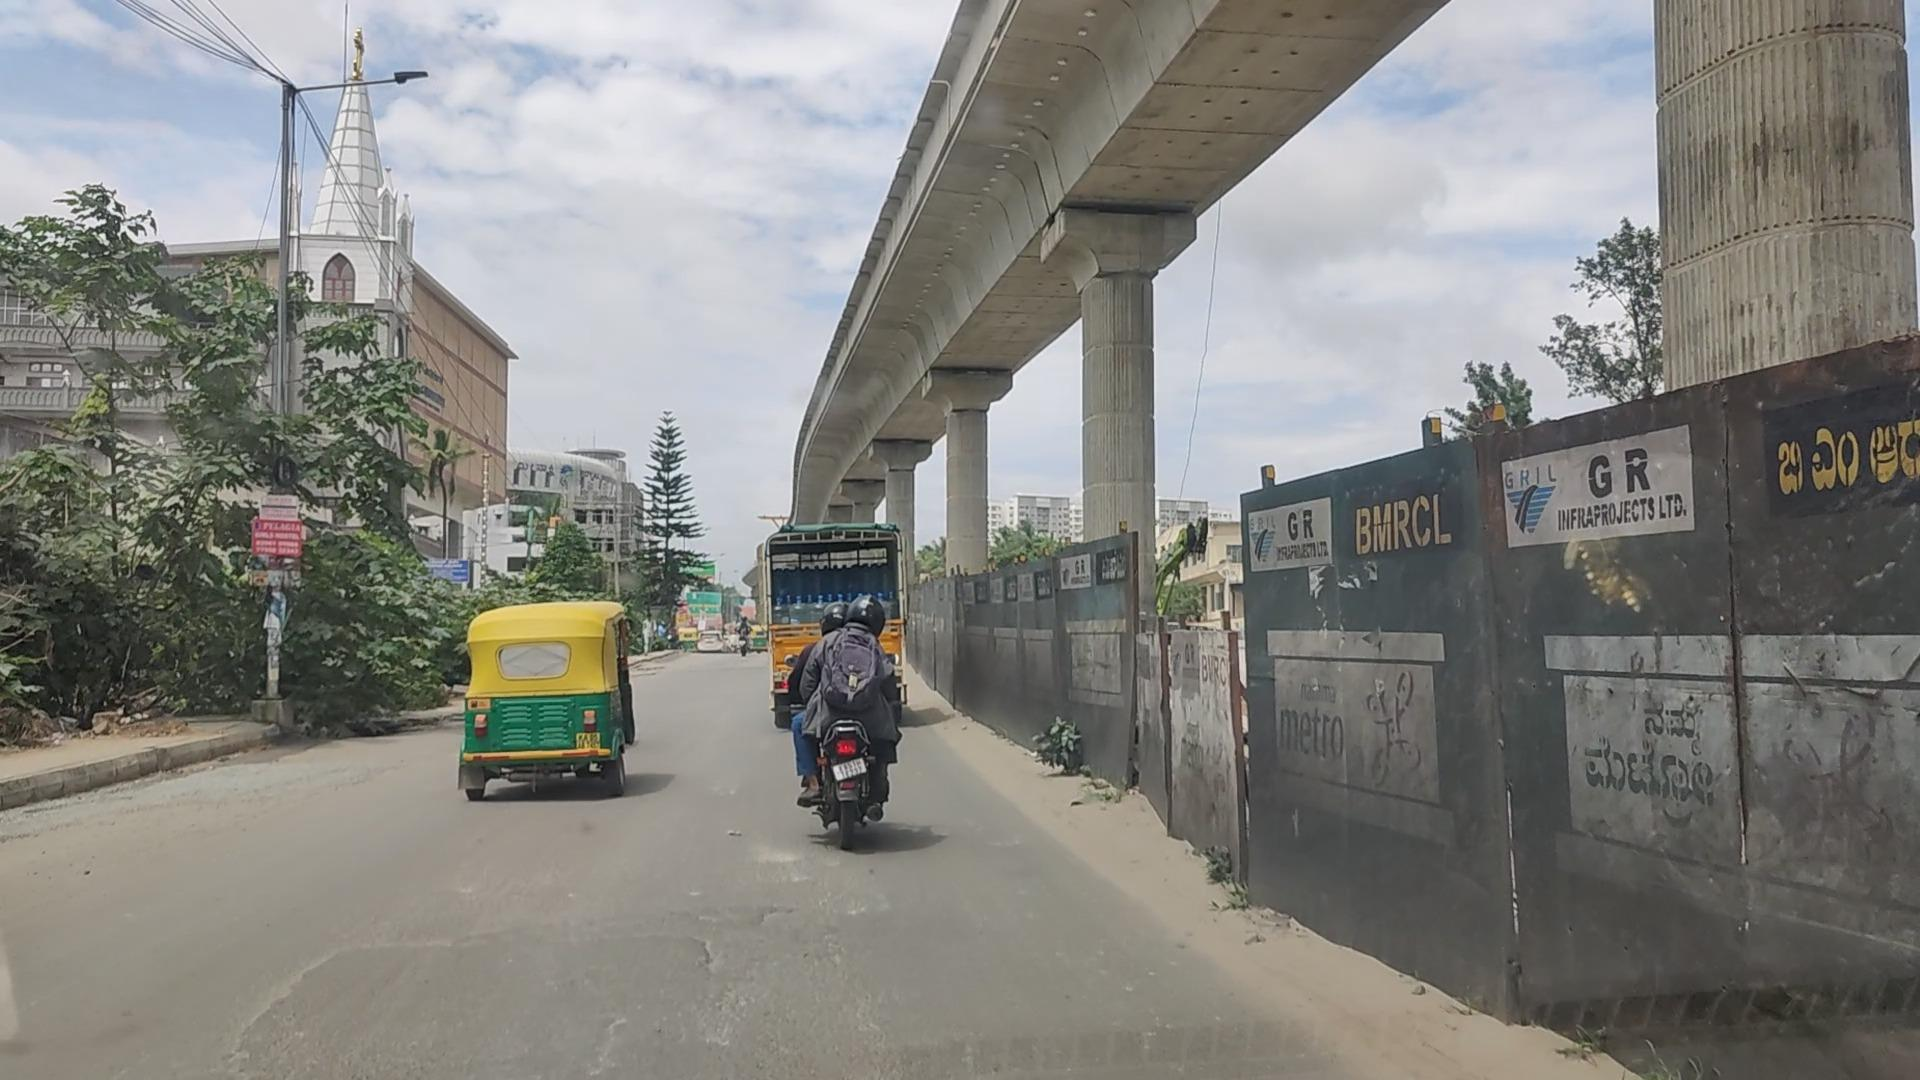HMV: (754, 522, 919, 727)
LMV: (787, 587, 910, 877), (459, 604, 630, 798)
RoadDamages: (229, 928, 361, 1046), (559, 1013, 649, 1064), (682, 919, 733, 980), (752, 894, 796, 942)
